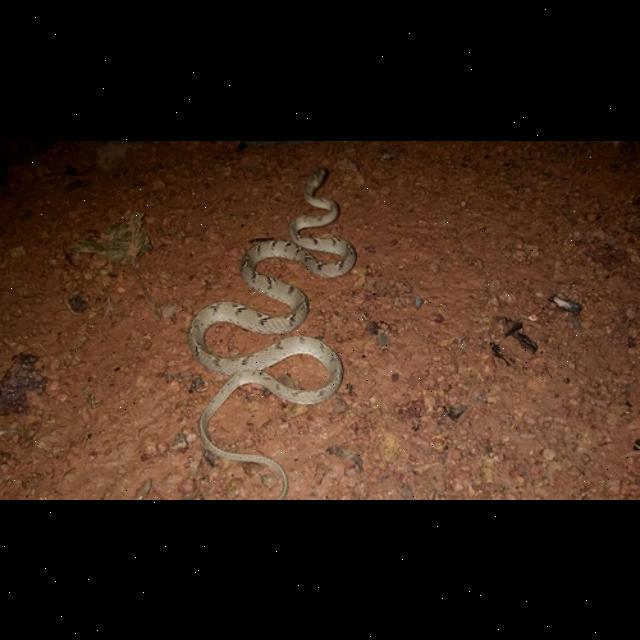snake: (184, 162, 353, 498)
